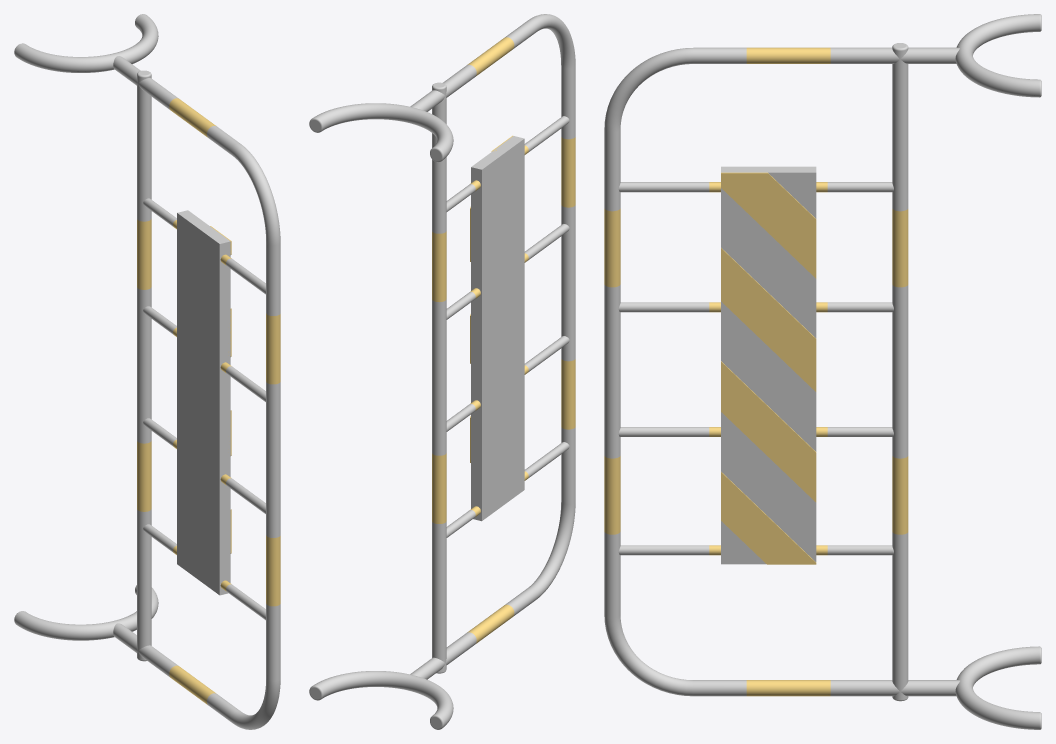
Rendered from 防护栏.gltf.
The picture shows the model from 3 angles, left to right: view 1: azimuth 30°, elevation 25°; view 2: azimuth 150°, elevation 25°; view 3: azimuth 270°, elevation 25°; orthographic projection. The views are drawn at different scales.
Visible parts, largest first — view 1: Default, Default_1; view 2: Default, Default_1; view 3: Default, Default_1.
Part boxes in pixels (bbox=[...]): Default: bbox=[14, 14, 280, 729]; Default_1: bbox=[137, 98, 280, 704]; Default: bbox=[309, 14, 575, 729]; Default_1: bbox=[432, 37, 575, 643]; Default: bbox=[604, 14, 1041, 729]; Default_1: bbox=[604, 47, 908, 696].
Bounding box in the file's own units: 0.4032 × 1.68 × 1.02.
